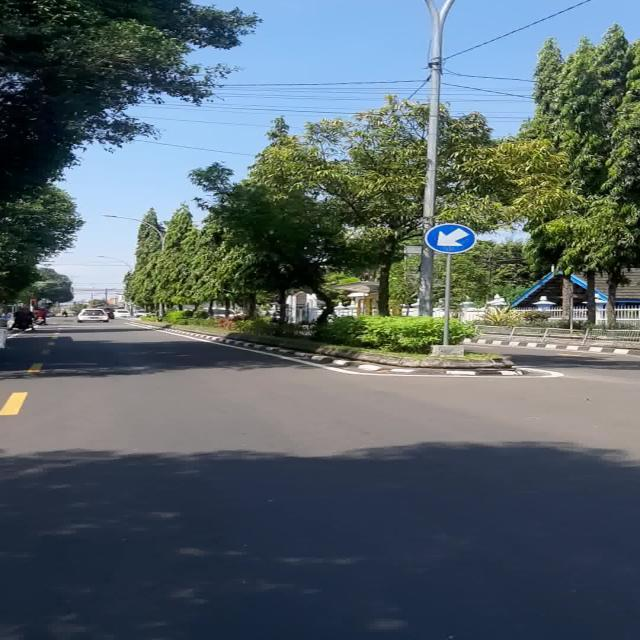Lajur Kiri: (425, 224, 476, 254)
